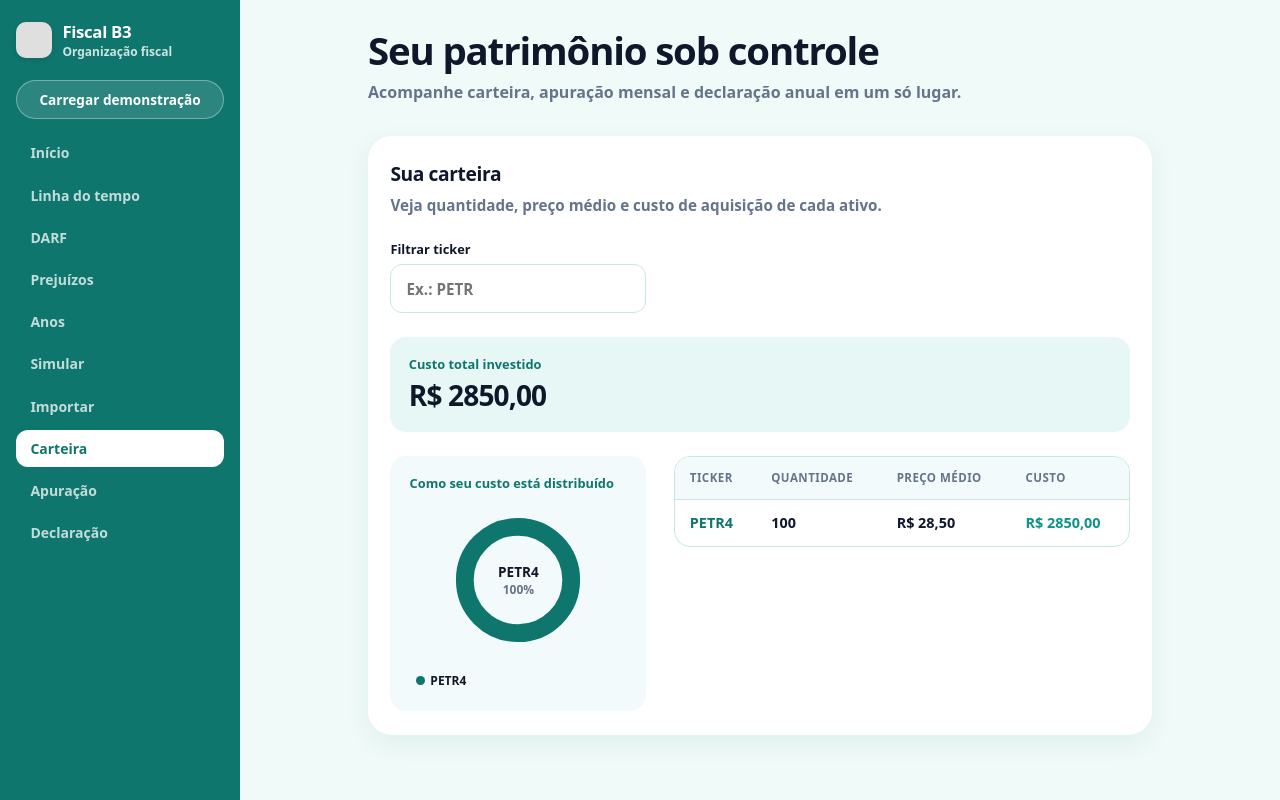
Scenario: Web UI › opens asset detail from portfolio without recalculating average price
Expected: the text "PETR4" below "Como seu custo está distribuído" is shown, [498, 562, 539, 581]
Expected: the text "100" is shown, [771, 513, 796, 532]
Click the text "100" at x=902, y=523, box [675, 499, 1129, 546]
(page scrolled)
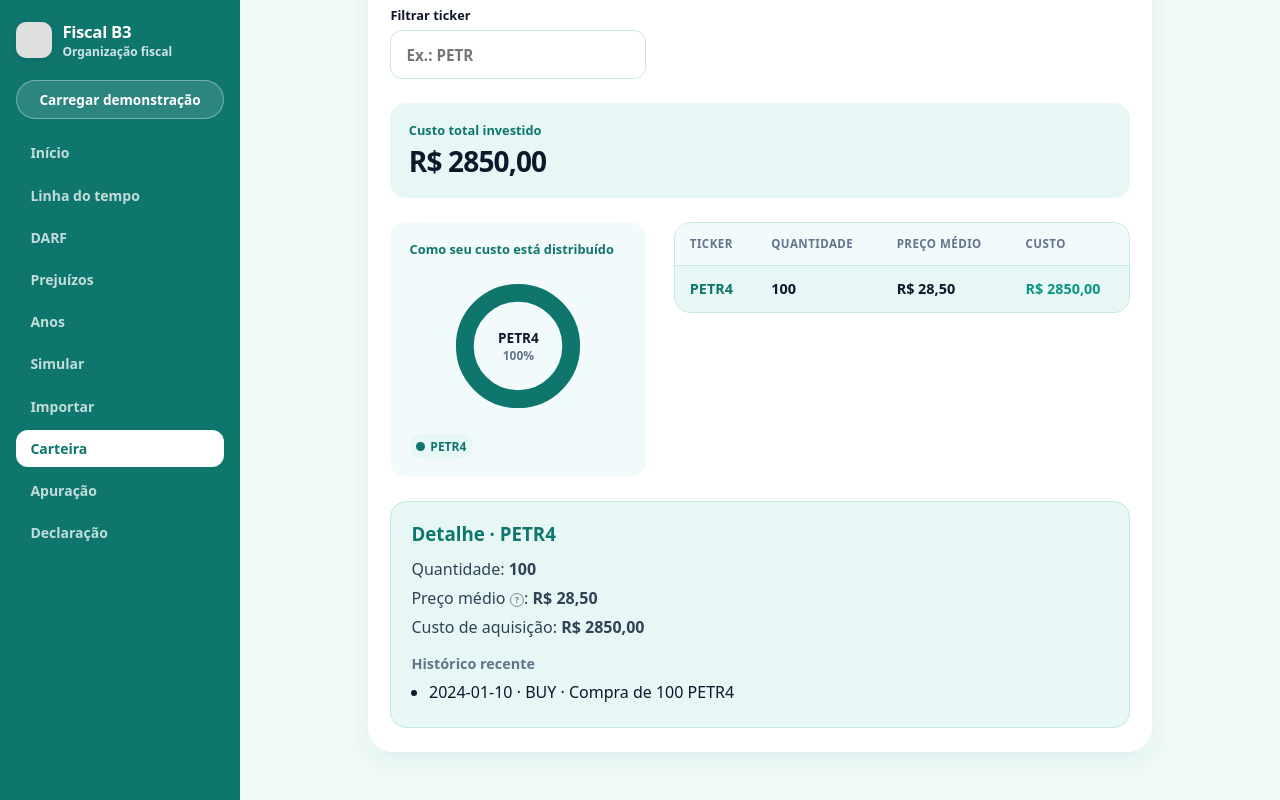
Result: the element with test id "asset-detail" is shown at [390, 501, 1130, 728]
Result: the heading "Detalhe · PETR4" is shown at [411, 521, 556, 546]
Result: the list item "2024-01-10 · BUY · Compra de 100 PETR4" is shown at [429, 681, 734, 703]
